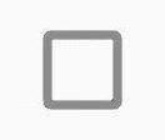CheckBox: (1, 1, 164, 139)
